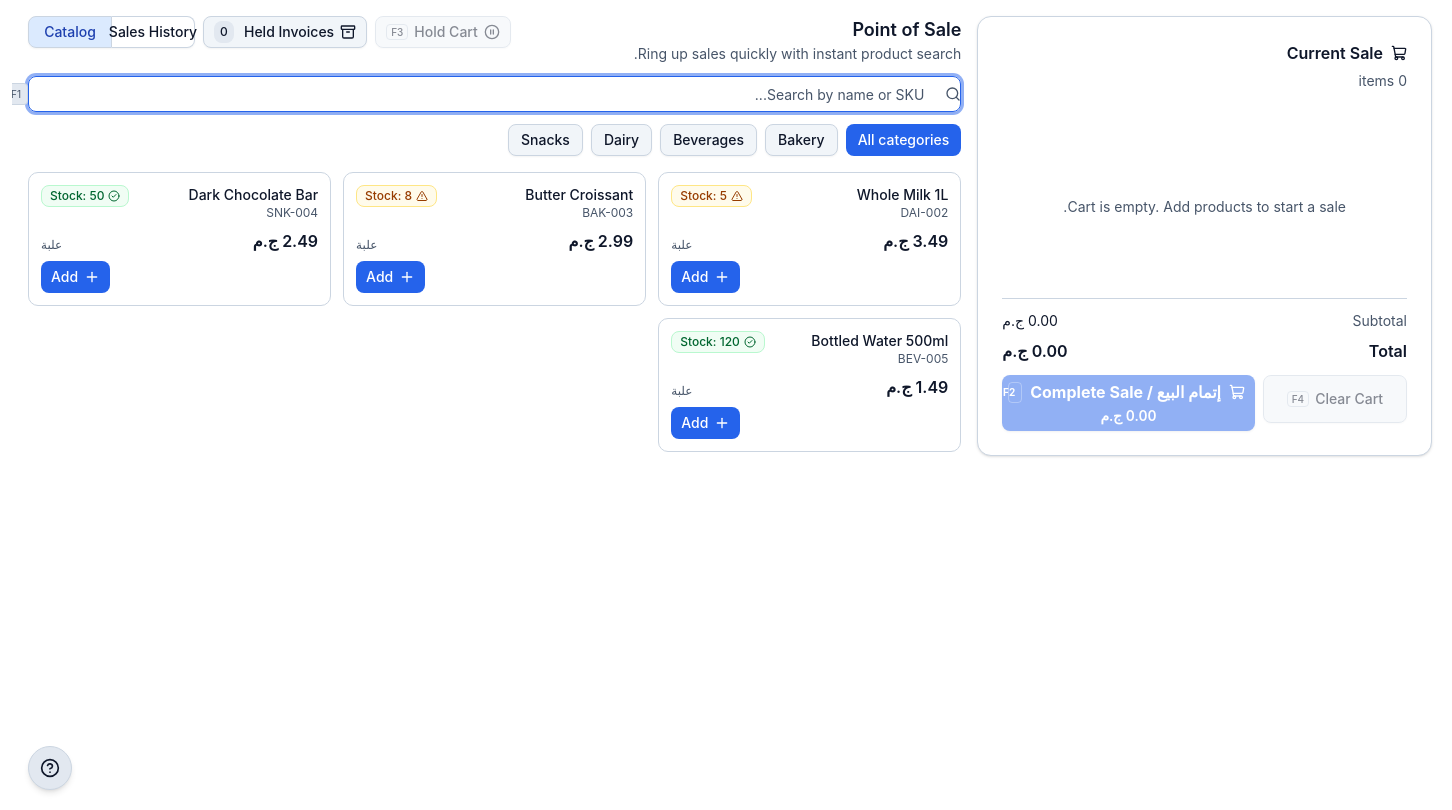
Test case: POSScreen › auto-focuses product search and filters by a category pill
The width and height of the screenshot is (1452, 810).
Click the button "Dairy" at (622, 140), box [591,124,652,156]
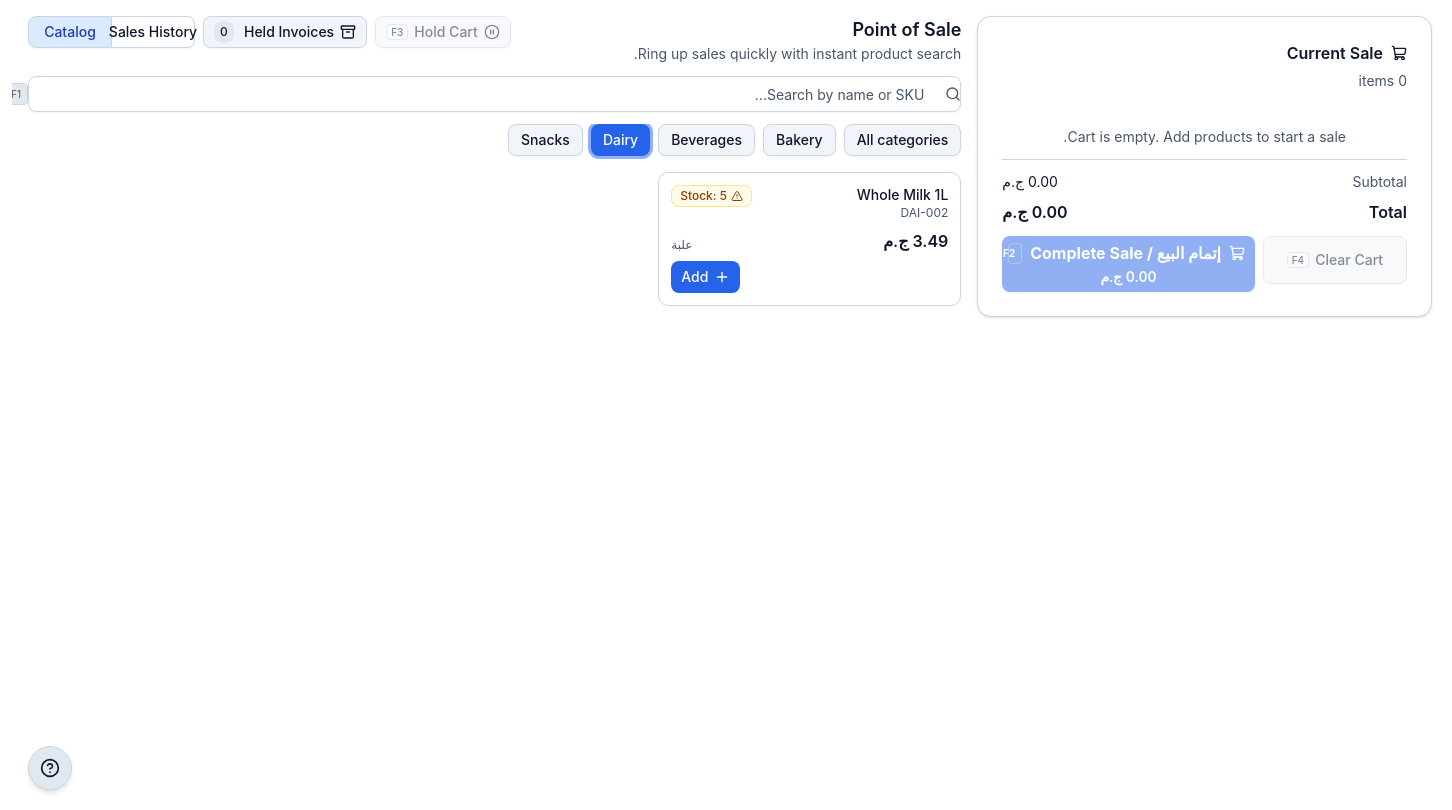
Expected: the text "Whole Milk 1L" is shown, [857,185,948,205]
Expected: the text "Dark Chocolate Bar" is gone
